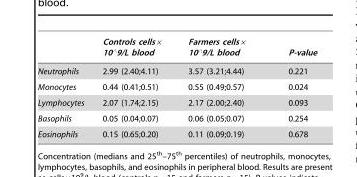table: (37, 36, 318, 138)
table column: (175, 36, 267, 138), (92, 36, 175, 138), (37, 36, 92, 138), (267, 36, 318, 138)
table column header: (37, 36, 318, 61)
table row: (37, 36, 318, 61), (37, 61, 318, 78), (37, 78, 318, 94), (37, 94, 318, 110), (37, 110, 318, 126), (37, 126, 318, 138)
